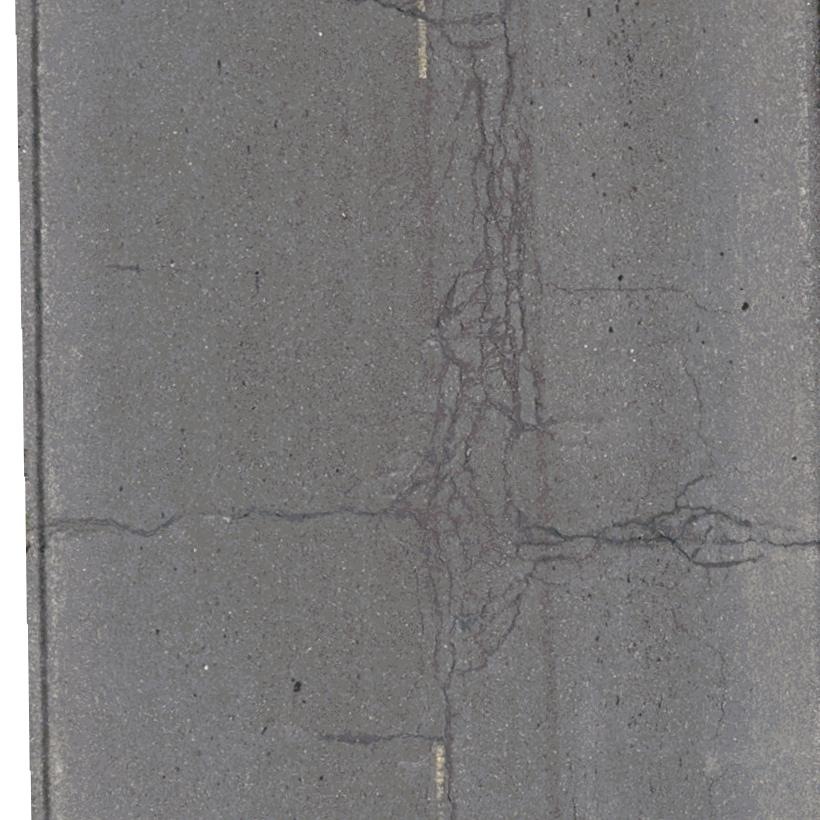GRIETA: (26, 0, 51, 819), (669, 607, 728, 738), (551, 282, 750, 315), (679, 344, 715, 470), (35, 512, 184, 538), (315, 729, 443, 745), (230, 508, 373, 522), (442, 692, 457, 819), (674, 474, 706, 504), (765, 538, 819, 550)
PIEL DE COCODRILO: (353, 0, 595, 692), (597, 504, 770, 572)
